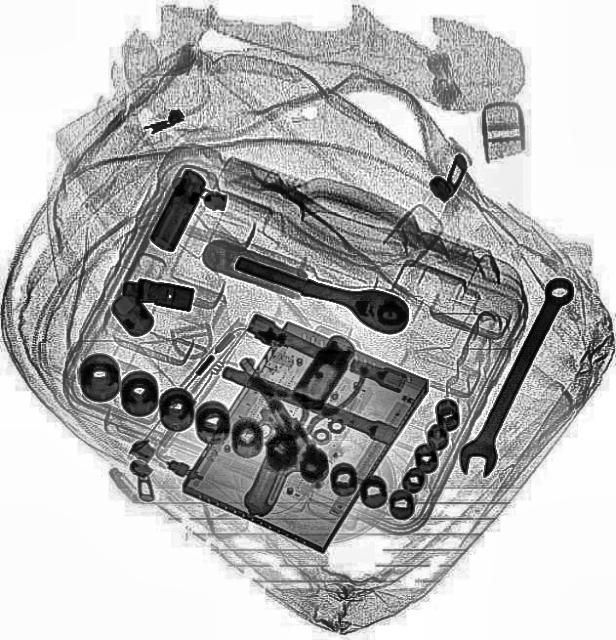Gun: (173, 349, 335, 521)
